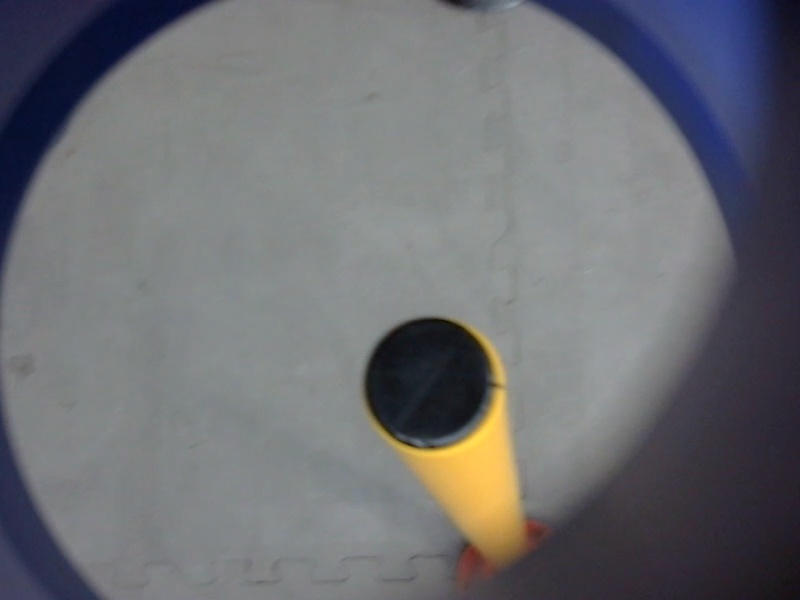tip: (352, 304, 516, 466)
